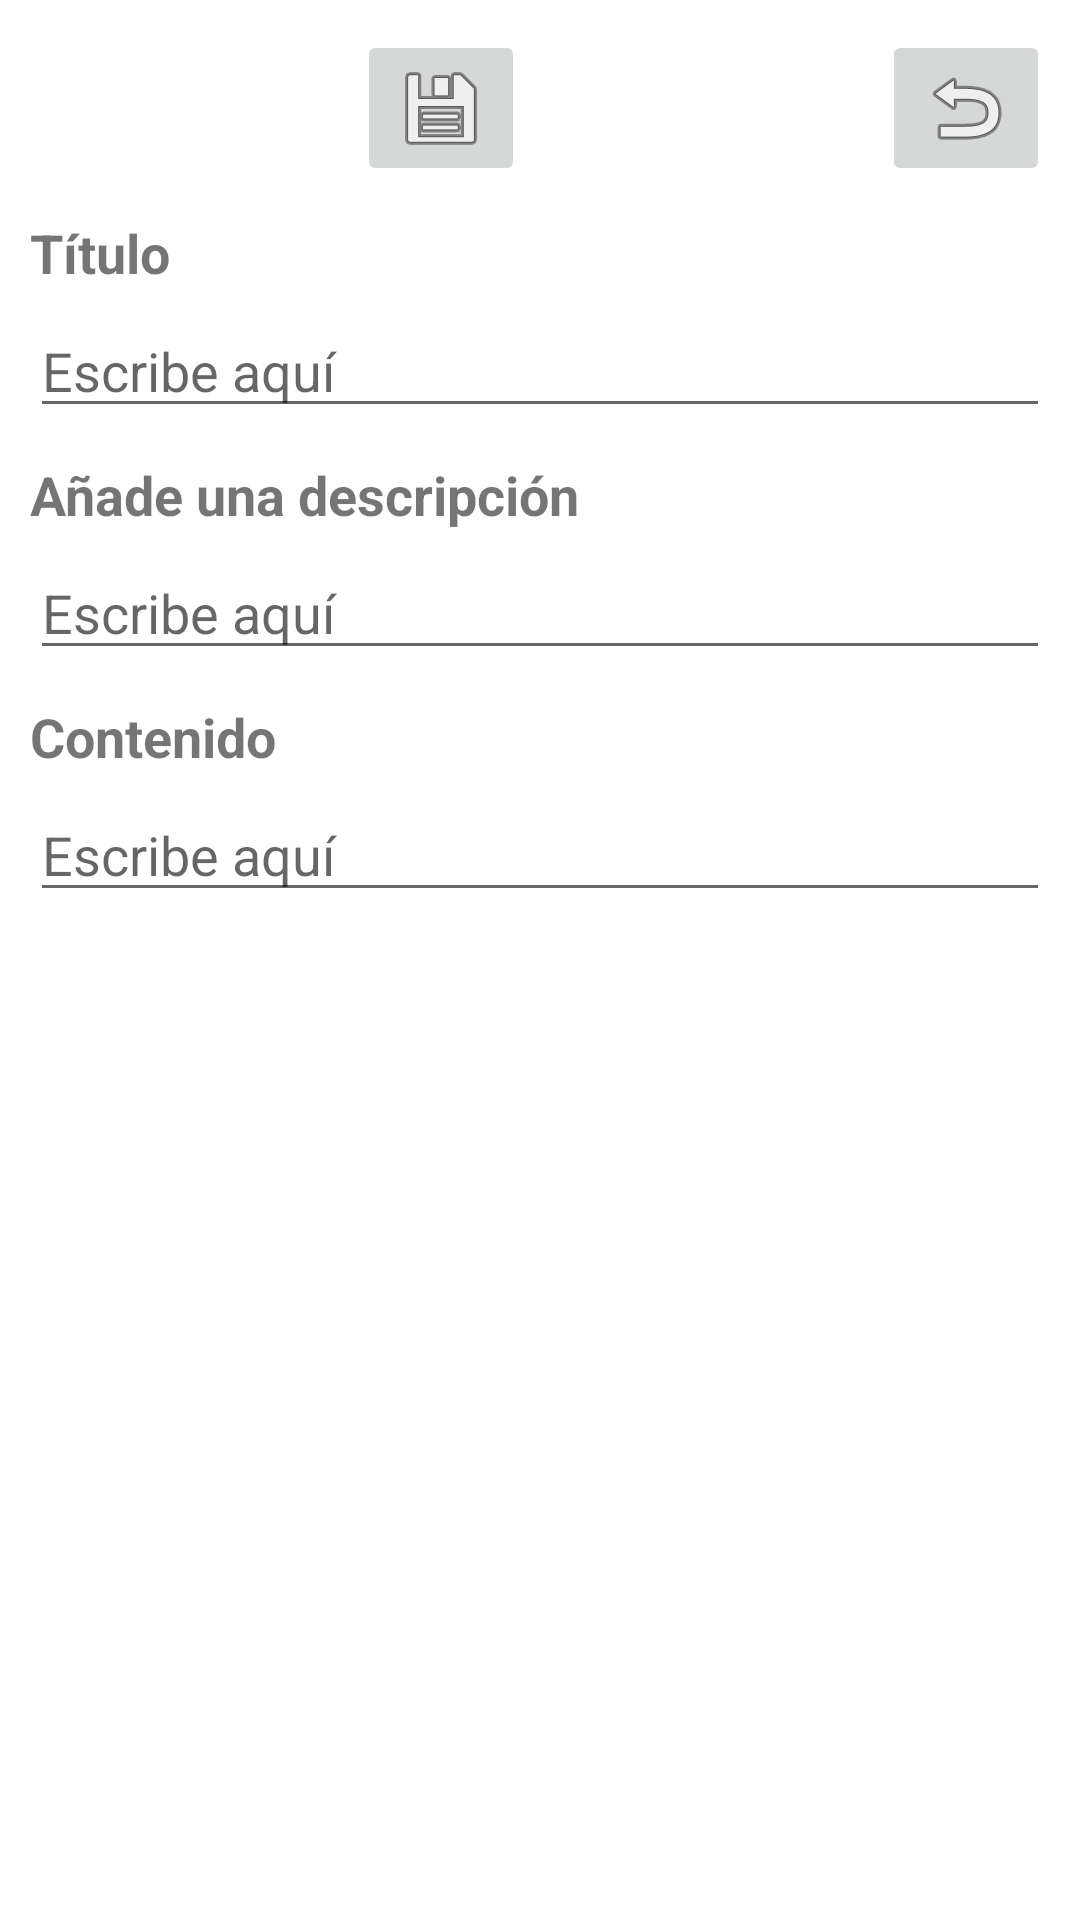

Where icons sit on this 1080 x 1920 app screen, as box=[x1, y1, x2, y2]:
revert: box=[894, 48, 1038, 168]
save: box=[369, 48, 513, 168]
